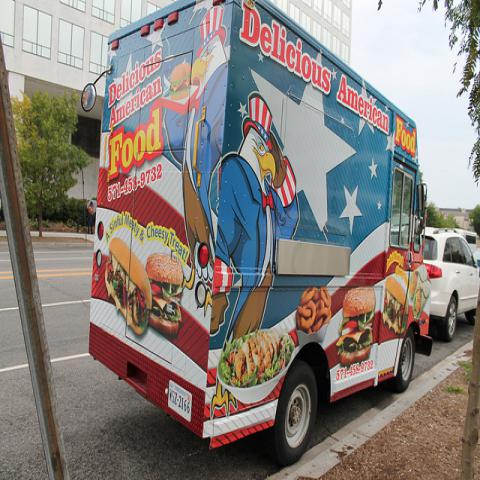car: (419, 227, 480, 343), (457, 228, 477, 253), (472, 247, 479, 271)
truck: (86, 0, 434, 453)
